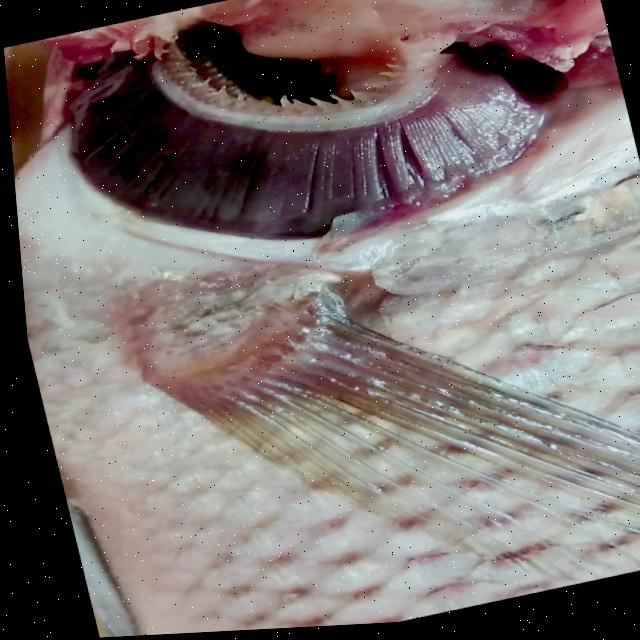Non-Fresh: (61, 0, 571, 279)
